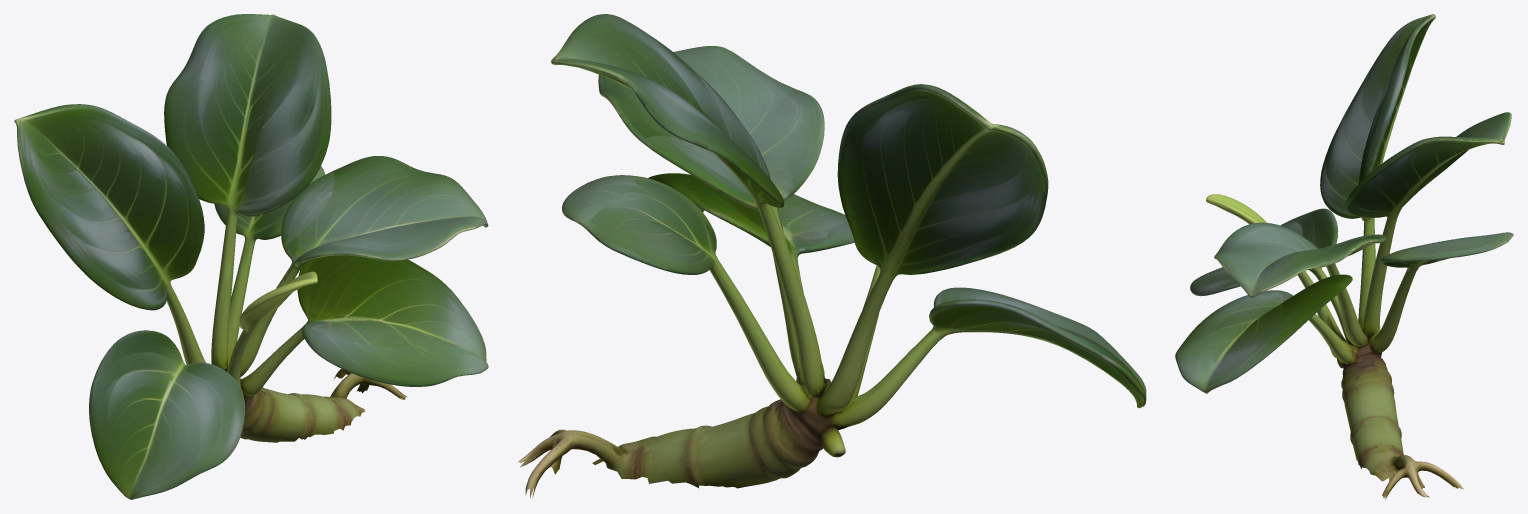
The model's file is anubias.glb.
3 renders of one model, left to right at view 1: azimuth 30°, elevation 25°; view 2: azimuth 150°, elevation 25°; view 3: azimuth 270°, elevation 25°, orthographic. The views are drawn at different scales.
Parts seen in each view (by area): view 1: node_0; view 2: node_0; view 3: node_0.
Part boxes in pixels (x1,y1,x2,y2): node_0: [14, 14, 488, 499]; node_0: [518, 14, 1146, 498]; node_0: [1175, 14, 1513, 499].
Size of the model in its own units: 0.8125 by 0.7293 by 0.6637.
1 material, 1 textured.
